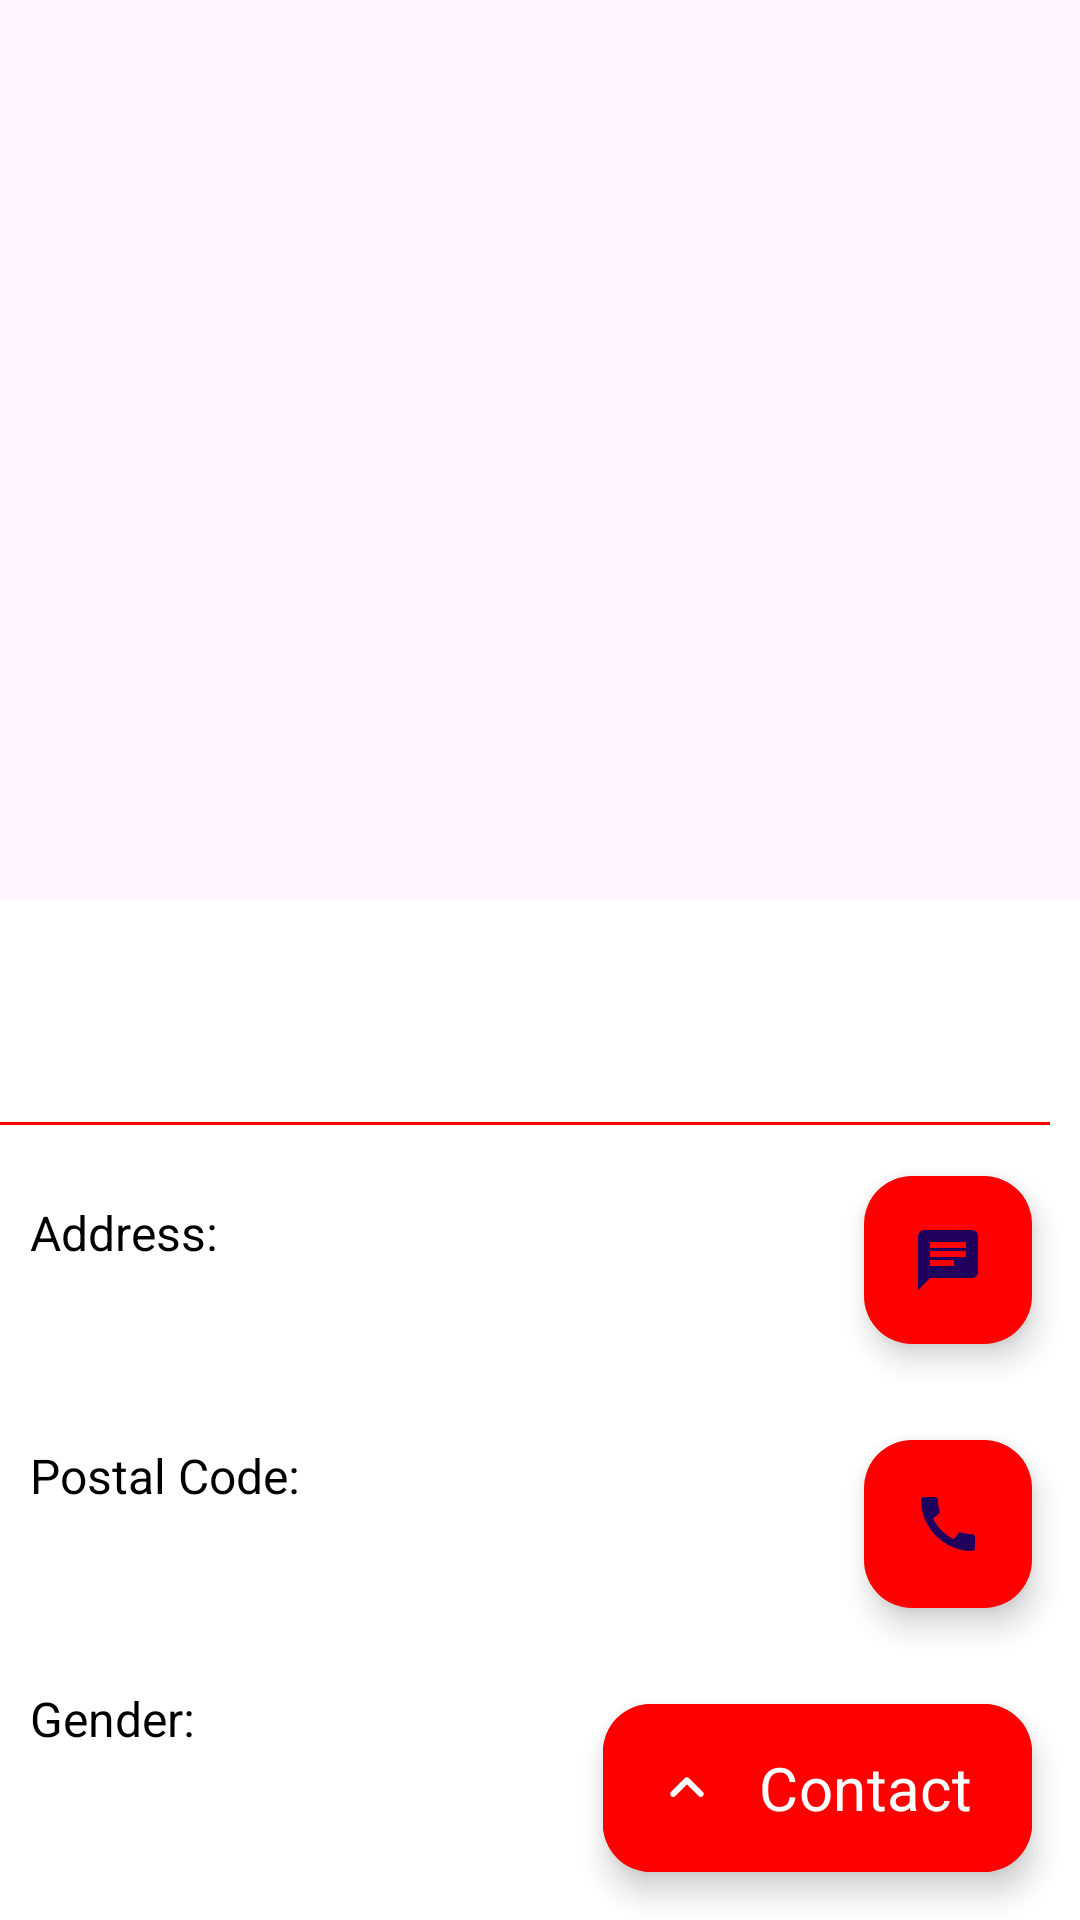

Icons on this 1080 x 1920 Android screen, each with its box as (x1, y1, x2, y2):
call: (864, 1440, 1032, 1608)
chat: (864, 1176, 1032, 1344)
